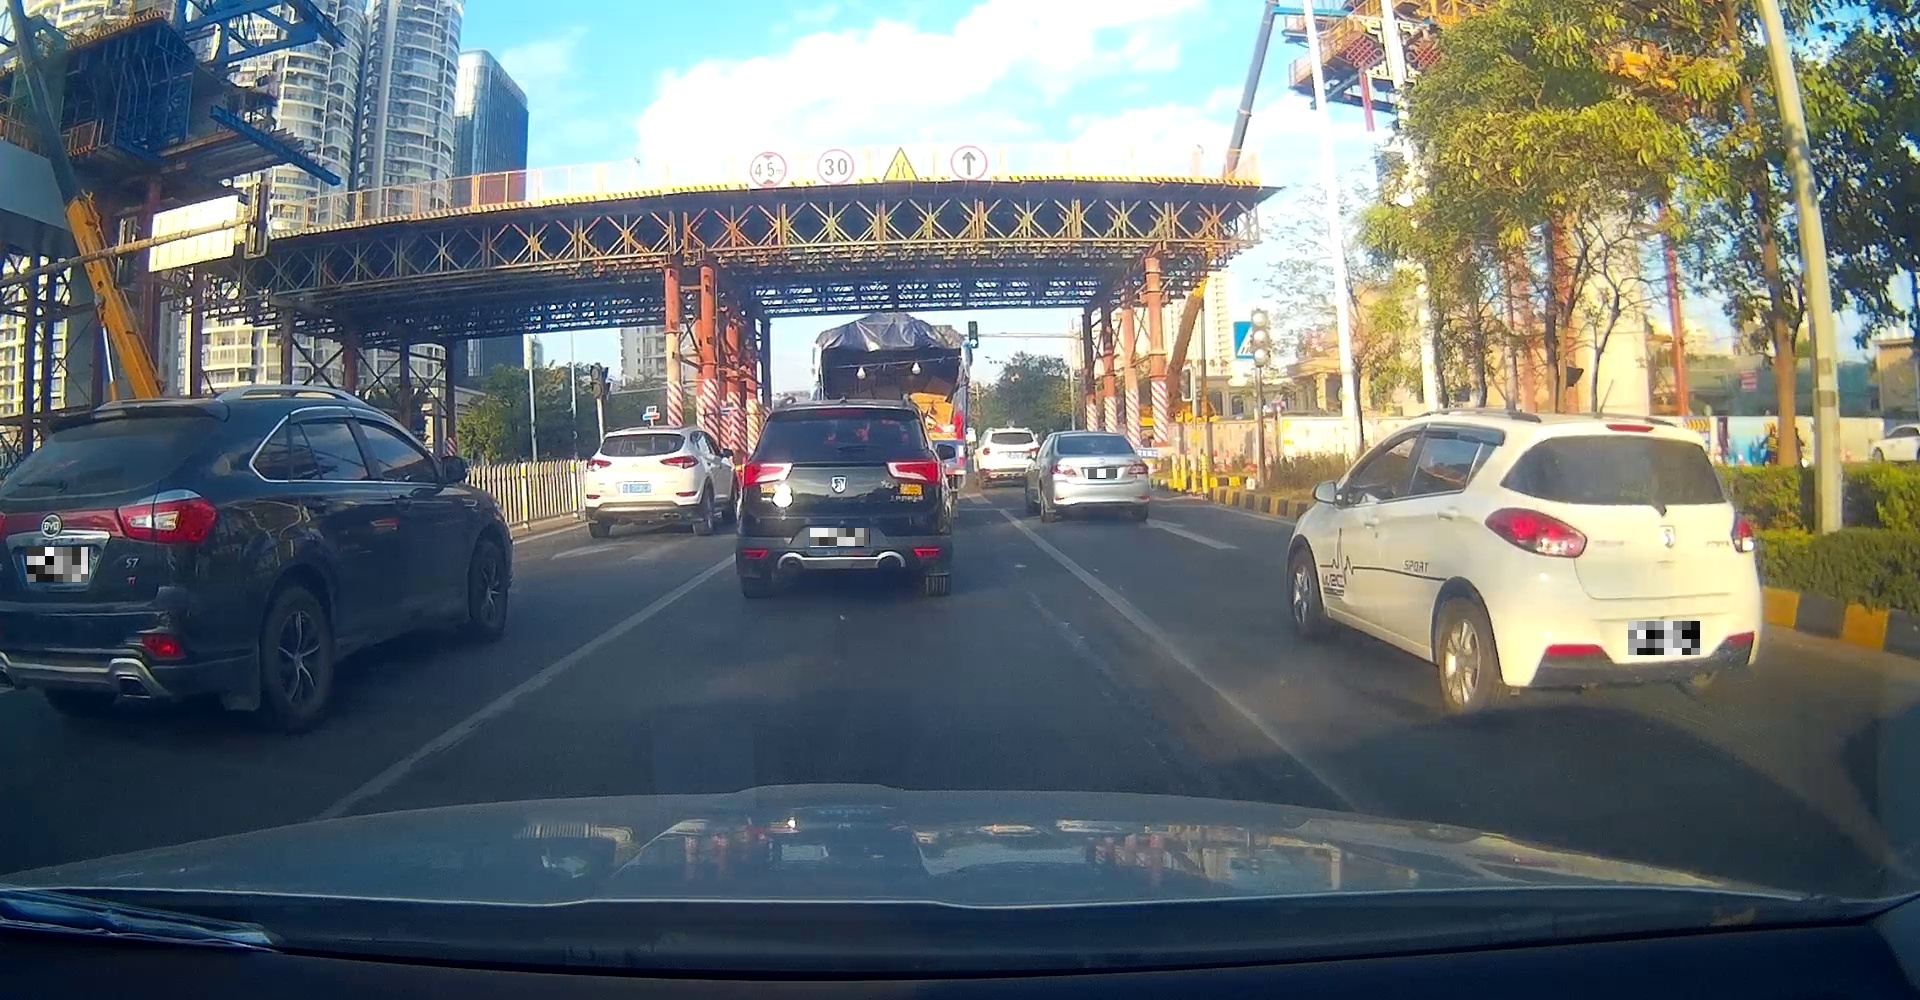L_light: (1483, 506, 1589, 558), (740, 461, 792, 489), (585, 457, 612, 472), (1050, 464, 1077, 476)
R_light: (888, 459, 941, 484), (1730, 510, 1756, 553), (659, 454, 698, 470), (1128, 464, 1149, 475)
T_light: (1603, 421, 1655, 434), (817, 405, 863, 416), (1090, 449, 1103, 456), (632, 431, 648, 437)
day-no: (1481, 420, 1763, 723), (739, 398, 945, 598), (584, 426, 698, 539), (1049, 431, 1150, 523)
plate_1: (27, 547, 88, 582)
plate_2: (810, 528, 869, 547)
plate_3: (1088, 470, 1117, 478)
plate_4: (1628, 621, 1700, 655)
